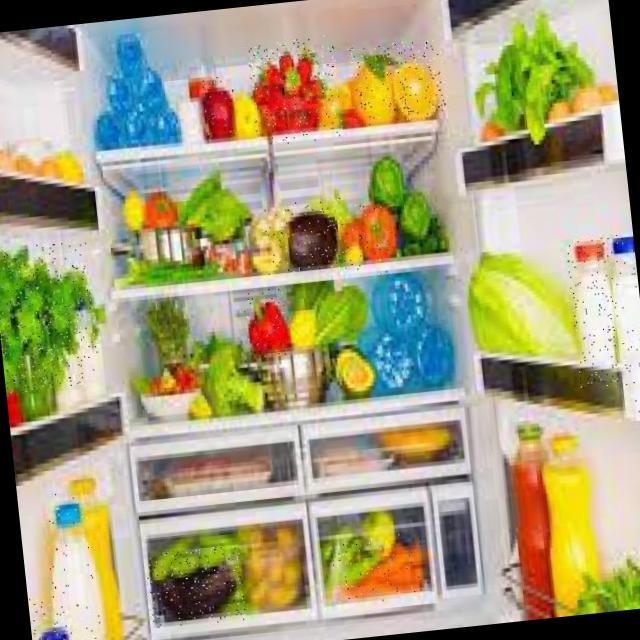Limón: (347, 37, 450, 127)
Manzana: (201, 74, 237, 137)
Tomate: (350, 201, 401, 277)
Zanahoria: (329, 531, 431, 606)
aubergine: (141, 544, 246, 630), (258, 196, 353, 277)
milk: (41, 490, 105, 640), (565, 237, 621, 392), (603, 230, 640, 417), (27, 594, 72, 640)
peppers: (242, 287, 289, 360)
spinach: (0, 239, 100, 393)
strawberries: (247, 35, 343, 147)
